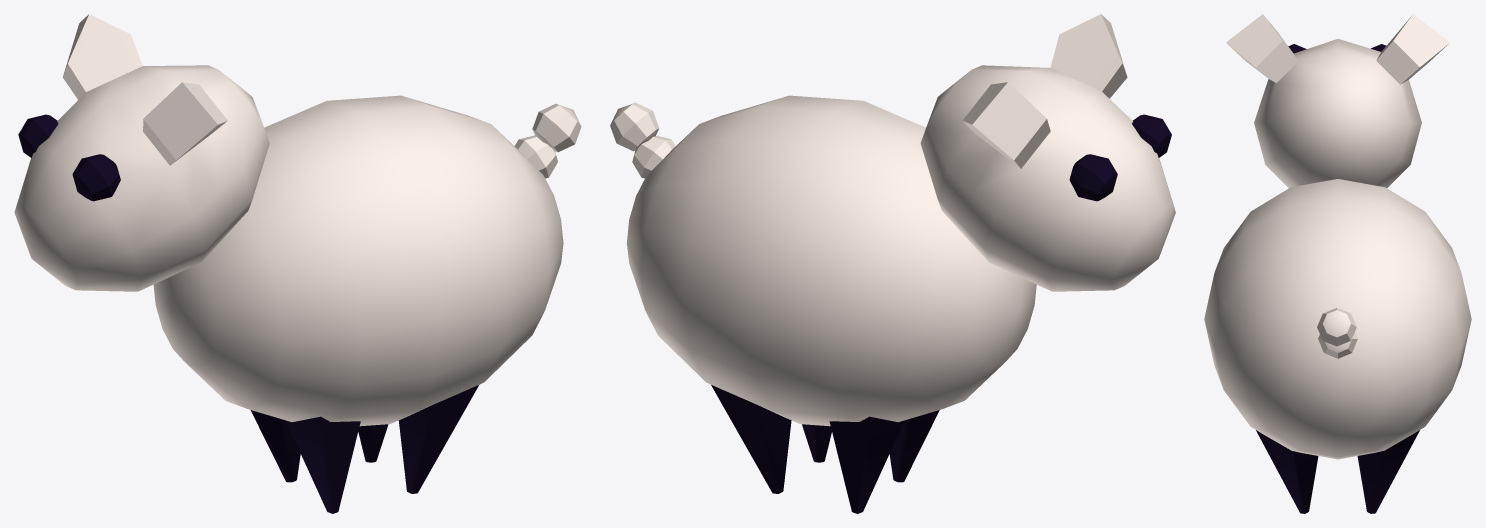
File: Goat.fbx
The picture shows the model from 3 angles, left to right: view 1: azimuth 30°, elevation 25°; view 2: azimuth 150°, elevation 25°; view 3: azimuth 270°, elevation 25°; orthographic projection. The views are drawn at different scales.
Parts seen in each view (by area): view 1: Goat; view 2: Goat; view 3: Goat.
Part boxes in pixels (x1,y1,x2,y2): Goat: (14,14,581,513); Goat: (610,14,1175,513); Goat: (1204,14,1471,513).
Bounding box in the file's own units: 0.8099 × 0.6921 × 0.4217.
